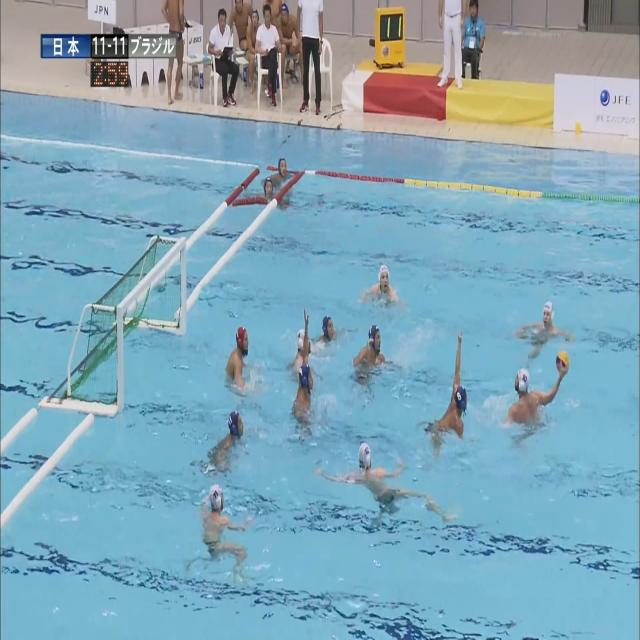ball: (556, 351, 569, 373)
